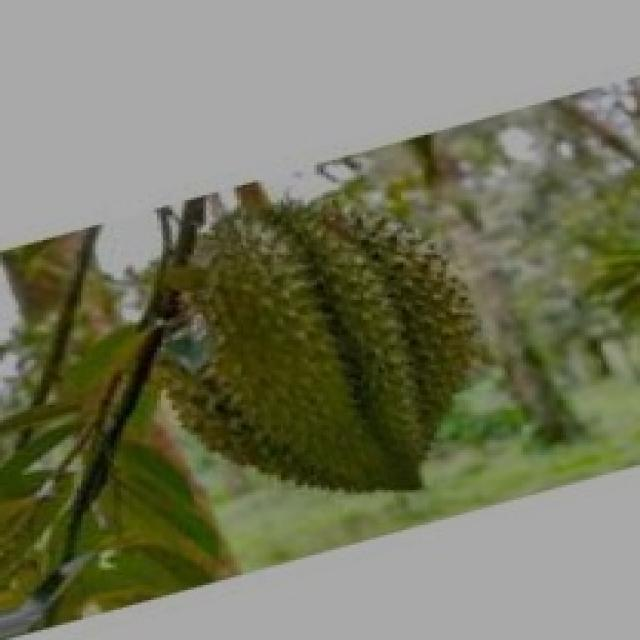fruit: (145, 160, 520, 532)
